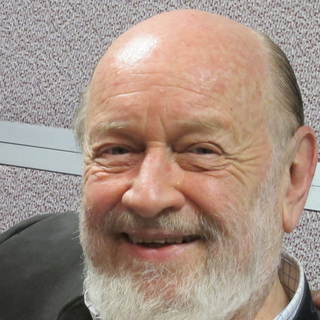eye: (93, 139, 142, 162), (181, 138, 226, 161)
